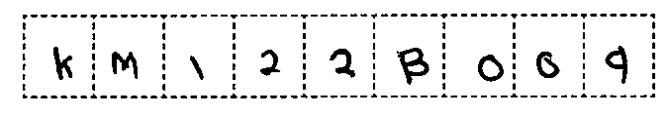0: (526, 48, 567, 83), (470, 50, 506, 87)
1: (182, 50, 210, 84)
2: (322, 44, 362, 82), (251, 45, 288, 81)
9: (592, 44, 636, 85)
B: (389, 41, 434, 88)
K: (42, 41, 82, 85)
M: (104, 45, 143, 84)
